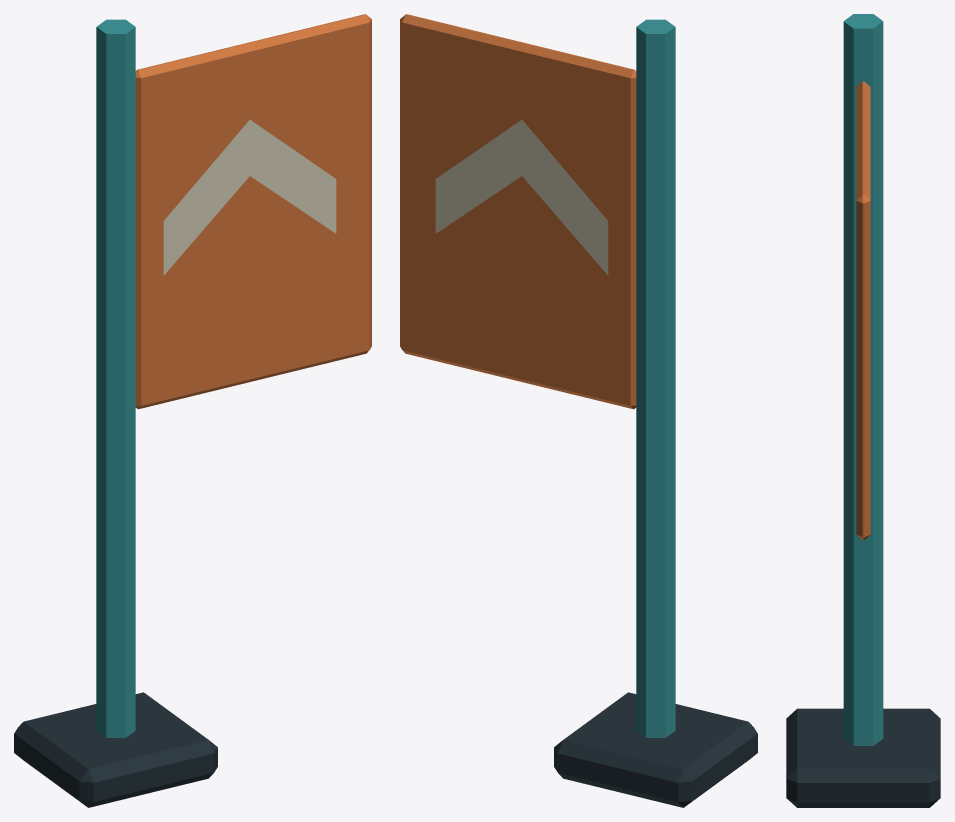
Rendered from prop_banner_01.glb.
The picture shows the model from 3 angles, left to right: view 1: azimuth 30°, elevation 25°; view 2: azimuth 150°, elevation 25°; view 3: azimuth 270°, elevation 25°; orthographic projection.
Parts seen in each view (by area): view 1: prop_banner_01__Banner; view 2: prop_banner_01__Banner; view 3: prop_banner_01__Banner.
Part boxes in pixels (<box>): prop_banner_01__Banner: <box>14,14,371,807</box>; prop_banner_01__Banner: <box>400,14,757,807</box>; prop_banner_01__Banner: <box>786,14,940,807</box>.
Bounding box in the file's own units: 2.1 × 4.6 × 0.85.
